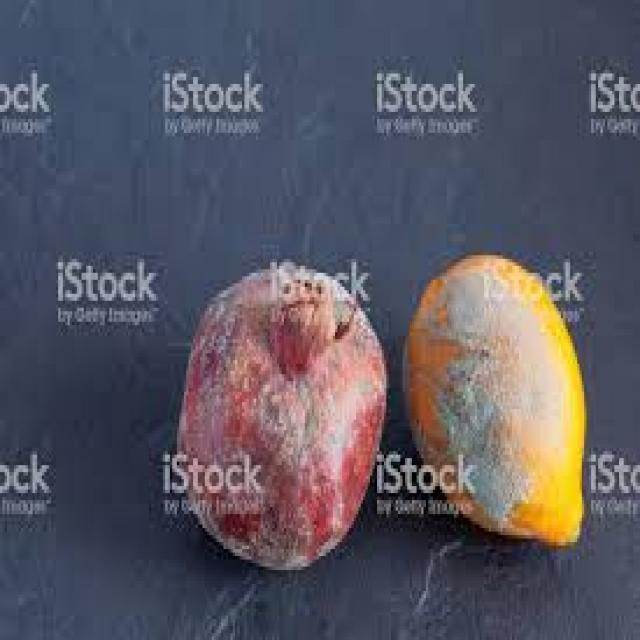organic waste: (172, 255, 384, 574), (400, 248, 584, 546)
